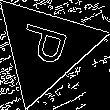P_E: (15, 23, 76, 73)
